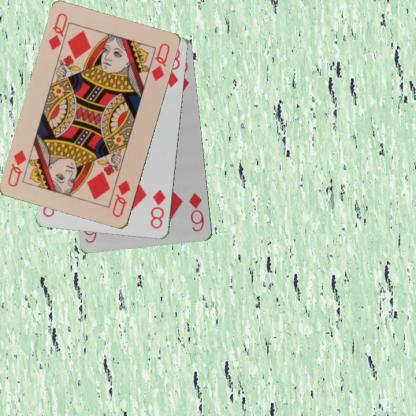6d: (186, 190, 206, 234)
8d: (148, 187, 167, 230)
Qd: (46, 11, 72, 57), (110, 177, 132, 219)
